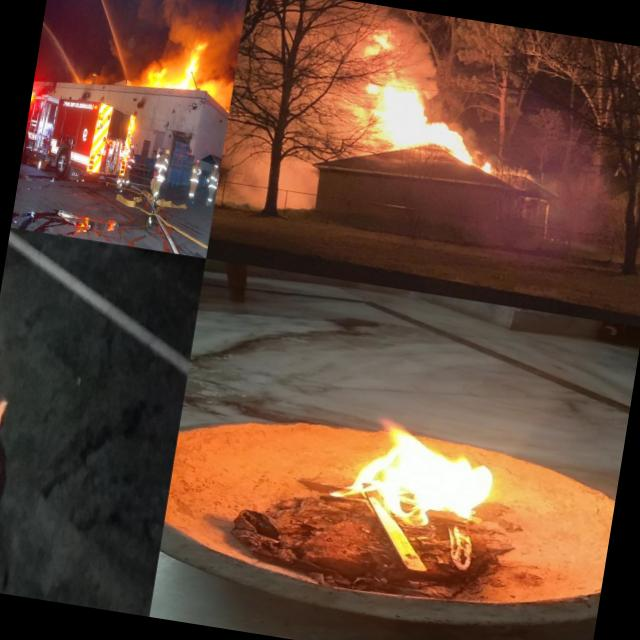fire: (315, 406, 512, 544), (378, 90, 473, 159), (174, 32, 213, 94), (463, 144, 501, 172), (144, 58, 170, 96)
smoke: (490, 130, 611, 250), (308, 6, 452, 98), (214, 116, 331, 223), (205, 0, 249, 100), (157, 0, 222, 34)
